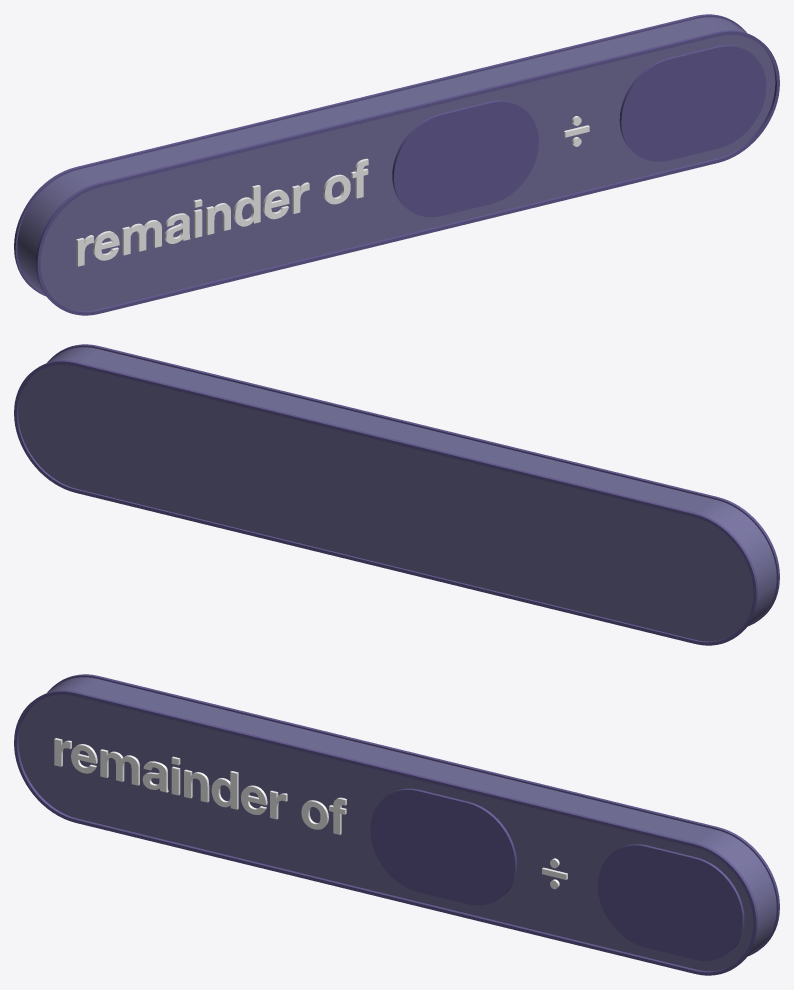
File: math_modulo.gltf
The picture shows the model from 3 angles, top to bottom: view 1: azimuth 30°, elevation 25°; view 2: azimuth 150°, elevation 25°; view 3: azimuth 330°, elevation 25°; orthographic projection.
Visible parts, largest first — view 1: Extrude.15, Extrude.1, Extrude, Extrude.14, Extrude.16, Extrude.11, Extrude.7, Extrude.10, Extrude.12, Extrude.6, Extrude.8, Extrude.4; view 2: Extrude.15, Extrude.16, Extrude.14; view 3: Extrude.15, Extrude.1, Extrude, Extrude.14, Extrude.16, Extrude.11, Extrude.7, Extrude.10, Extrude.12, Extrude.6, Extrude.8, Extrude.4.
Part boxes in pixels (x1=…): Extrude.15: x1=17, y1=17, x2=775, y2=310; Extrude.1: x1=392, y1=100, x2=538, y2=217; Extrude: x1=619, y1=45, x2=766, y2=161; Extrude.14: x1=36, y1=30, x2=779, y2=315; Extrude.16: x1=14, y1=14, x2=746, y2=295; Extrude.11: x1=122, y1=220, x2=161, y2=255; Extrude.7: x1=233, y1=185, x2=260, y2=226; Extrude.10: x1=164, y1=213, x2=190, y2=243; Extrude.12: x1=93, y1=231, x2=119, y2=260; Extrude.6: x1=263, y1=189, x2=289, y2=219; Extrude.8: x1=206, y1=203, x2=230, y2=234; Extrude.4: x1=323, y1=174, x2=350, y2=204; Extrude.15: x1=18, y1=347, x2=776, y2=641; Extrude.16: x1=14, y1=360, x2=757, y2=645; Extrude.14: x1=47, y1=344, x2=779, y2=625; Extrude.15: x1=18, y1=677, x2=776, y2=970; Extrude.1: x1=370, y1=788, x2=516, y2=905; Extrude: x1=598, y1=844, x2=744, y2=960; Extrude.14: x1=14, y1=690, x2=757, y2=975; Extrude.16: x1=47, y1=674, x2=779, y2=955; Extrude.11: x1=100, y1=749, x2=139, y2=785; Extrude.7: x1=211, y1=771, x2=238, y2=809; Extrude.10: x1=142, y1=761, x2=168, y2=792; Extrude.12: x1=71, y1=744, x2=97, y2=773; Extrude.6: x1=241, y1=785, x2=267, y2=814; Extrude.8: x1=184, y1=769, x2=209, y2=802; Extrude.4: x1=301, y1=800, x2=328, y2=829.
Size of the model in its own units: 1.24 by 0.2067 by 0.0681.
